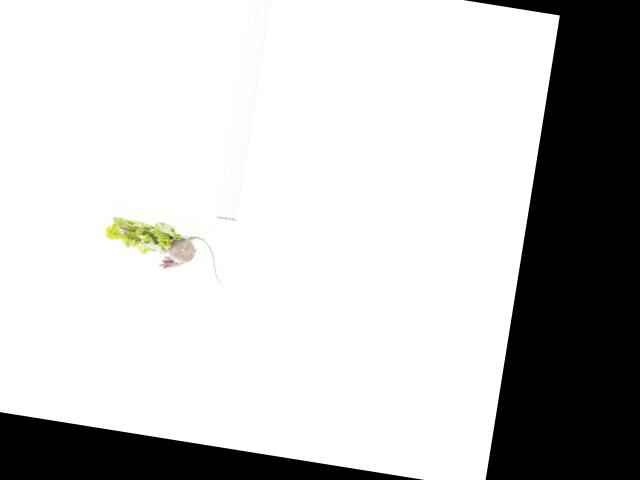beet: (157, 230, 230, 285)
